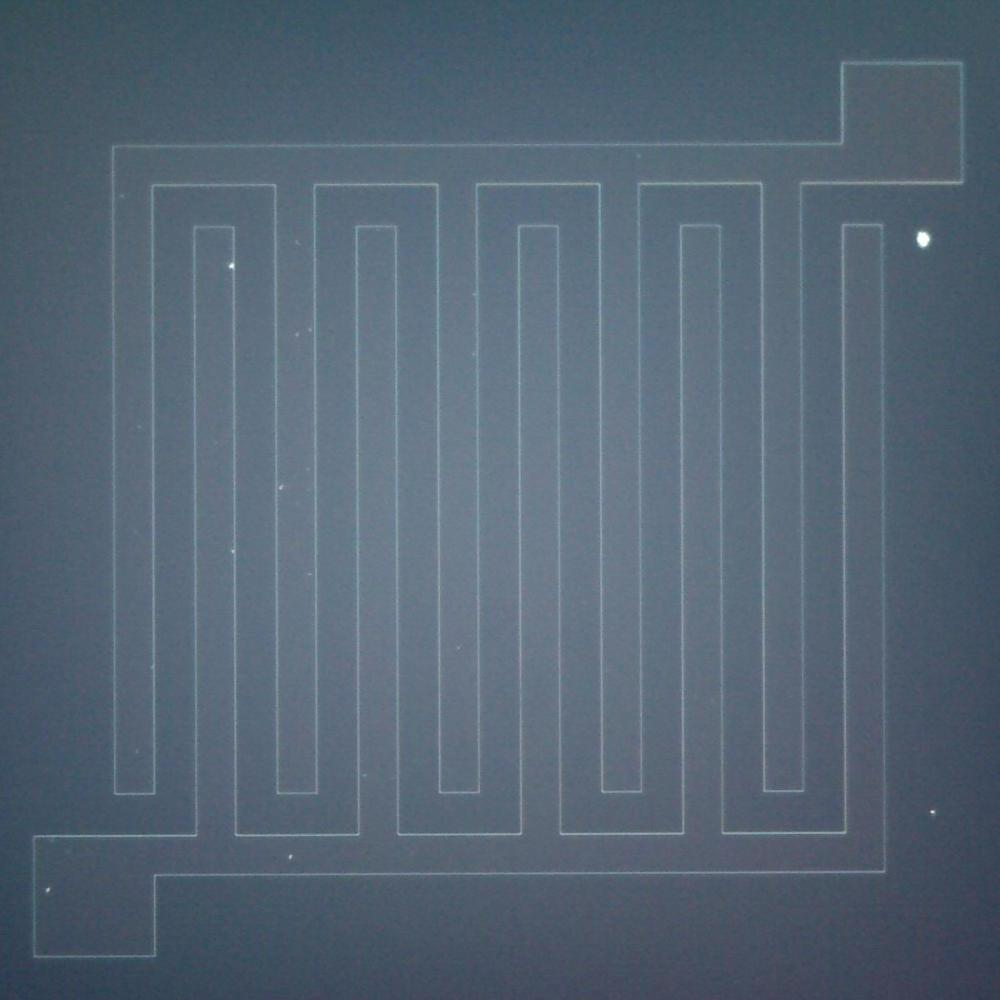dot: (918, 793, 950, 827), (277, 843, 304, 870), (38, 878, 64, 902), (221, 252, 245, 278)
spot: (909, 225, 937, 254)
